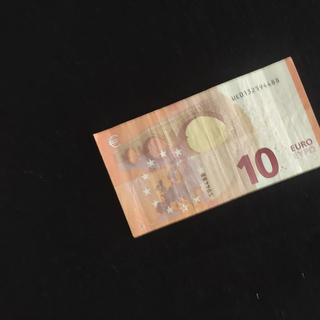10EUROBack: (92, 55, 320, 237)
